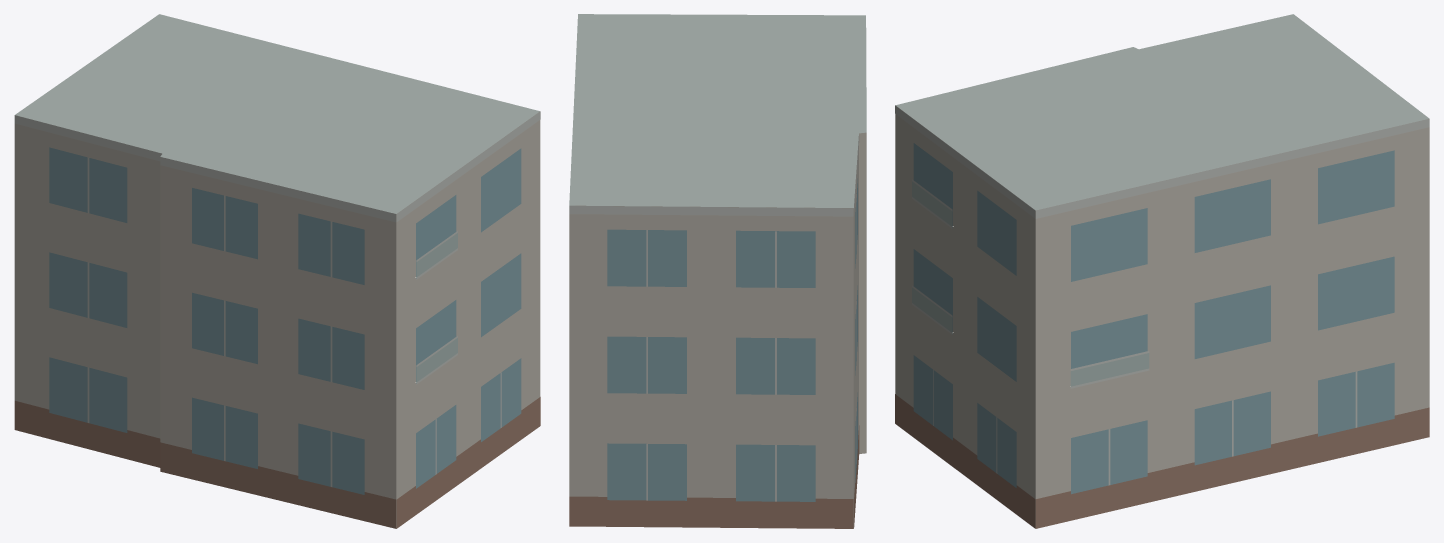
File: survey-upis-32963659.glb
3 renders of one model, left to right at view 1: azimuth 30°, elevation 25°; view 2: azimuth 150°, elevation 25°; view 3: azimuth 270°, elevation 25°, orthographic.
Visible parts, largest first — view 1: survey-upis-32963659.tmp; view 2: survey-upis-32963659.tmp; view 3: survey-upis-32963659.tmp.
Boxes of the visible parts, x1,y1,x2,y2 form: survey-upis-32963659.tmp: [14, 14, 540, 528]; survey-upis-32963659.tmp: [569, 14, 866, 528]; survey-upis-32963659.tmp: [895, 14, 1429, 528].
Size of the model in its own units: 12.12 by 9.15 by 13.93.
